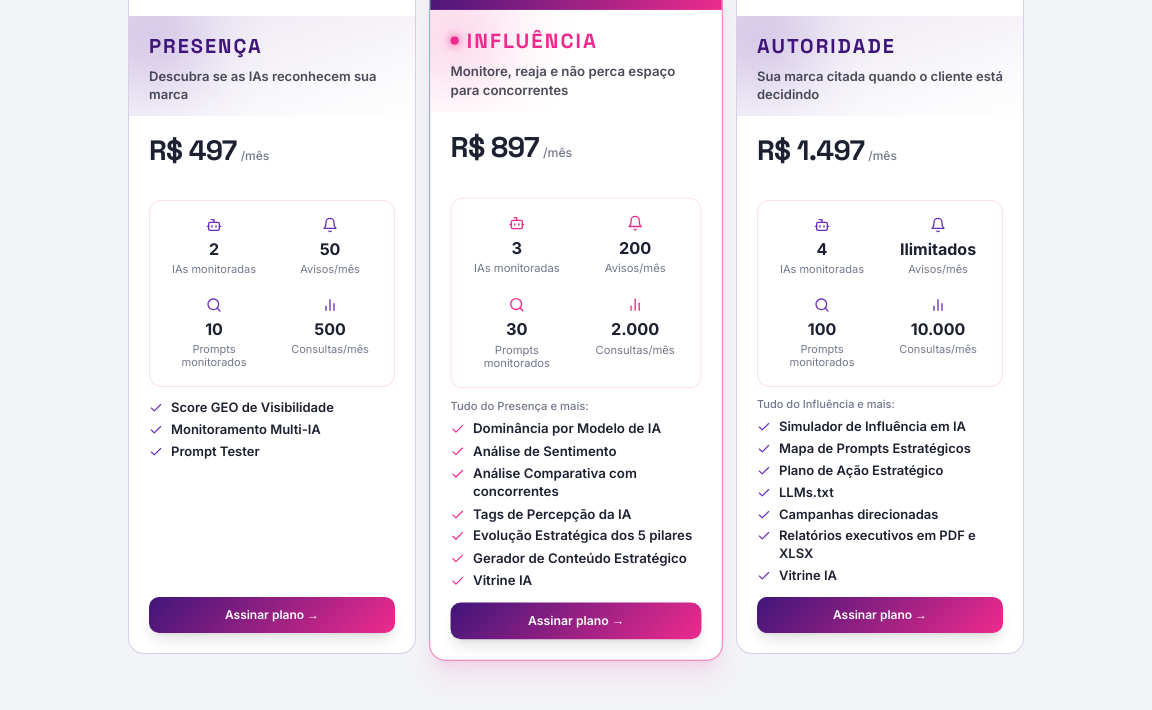
Test: P55 — escolha e confirmação › trial=false, annual=false: explica cobrança e compromisso
The image size is (1152, 710).
(page scrolled)
Click the button "Assinar plano →" below "Prompt Tester" at (272, 615), box 149,597 -> 395,633
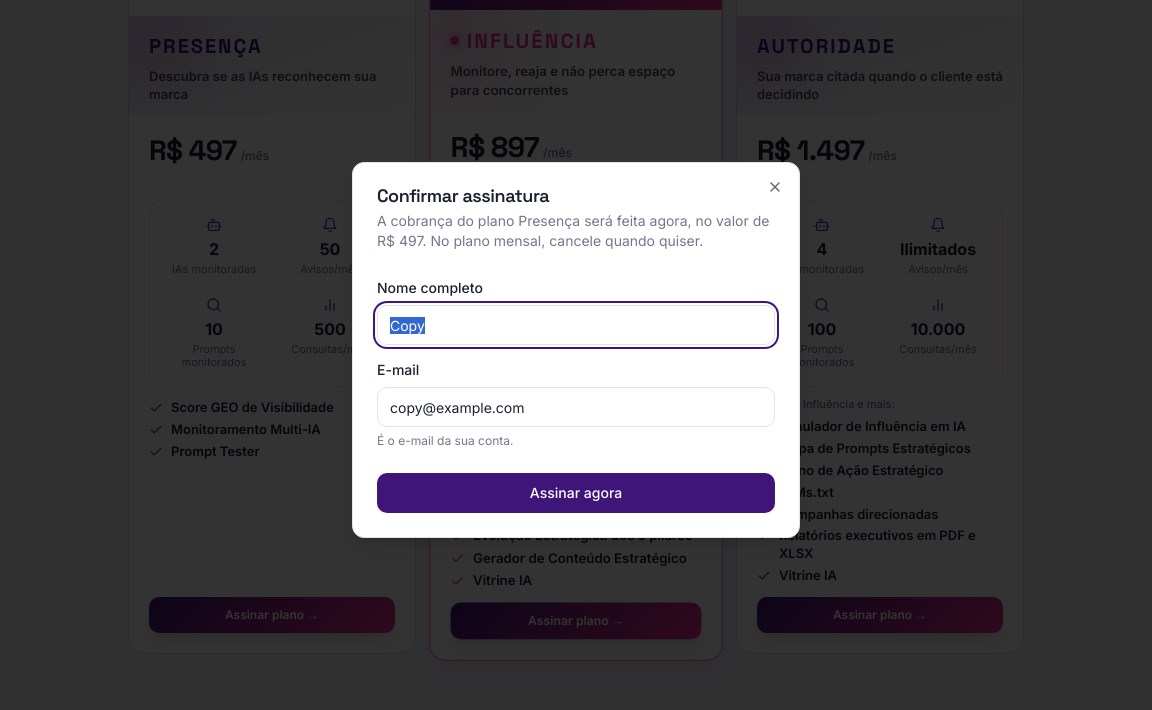
Expected: the text "A cobrança do plano Presença será feita agora, no valor de R$ 497. No plano mensal, cancele quando quiser." is shown, 377,212 -> 770,249
